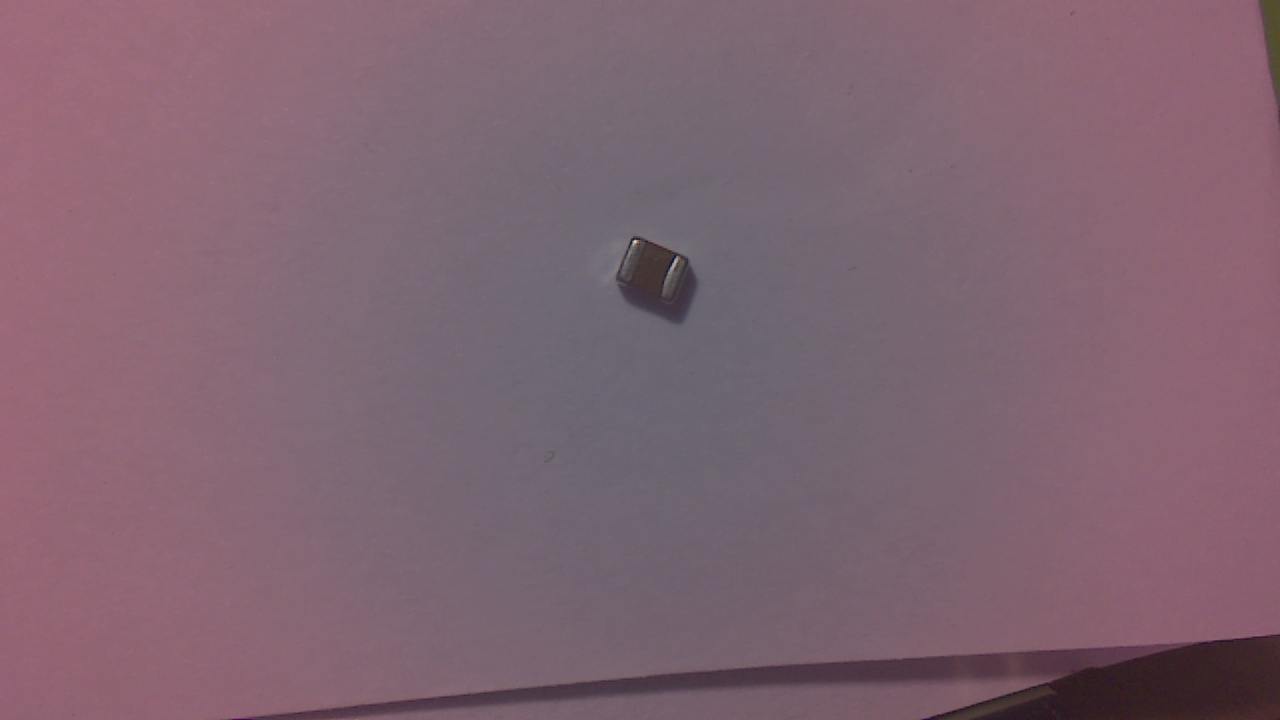Condensator: (622, 239, 694, 313)
